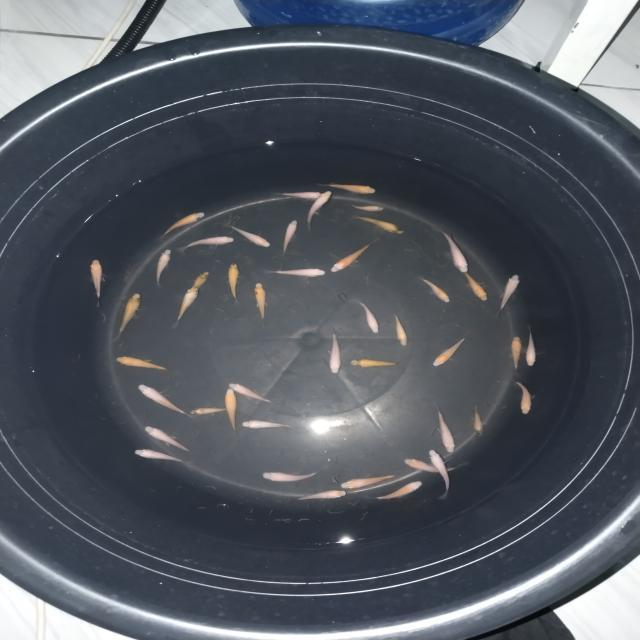nila: (136, 383, 192, 418), (328, 238, 381, 274), (439, 226, 474, 274), (111, 351, 175, 374), (142, 424, 194, 452), (115, 290, 144, 340), (402, 456, 474, 476), (366, 479, 428, 502), (427, 448, 454, 500), (158, 210, 206, 239), (430, 335, 470, 368), (436, 402, 461, 454), (349, 214, 408, 236), (227, 382, 276, 407), (494, 272, 522, 315), (229, 222, 272, 250), (254, 468, 320, 486), (173, 286, 200, 330), (178, 233, 236, 253), (318, 181, 389, 197), (460, 270, 492, 304), (306, 190, 332, 231), (264, 266, 330, 282), (418, 275, 453, 305), (286, 488, 349, 504), (338, 474, 393, 492), (89, 256, 108, 308), (222, 387, 242, 435), (326, 329, 346, 376), (132, 449, 187, 466), (355, 300, 382, 334), (153, 247, 174, 289), (513, 378, 535, 417), (240, 418, 296, 433), (252, 280, 270, 326), (268, 188, 327, 202), (279, 217, 300, 256), (522, 326, 540, 371), (184, 268, 211, 298), (224, 260, 242, 304), (507, 334, 525, 376), (392, 311, 412, 348), (348, 357, 401, 370), (188, 404, 232, 418), (471, 404, 487, 440), (350, 202, 390, 214)
